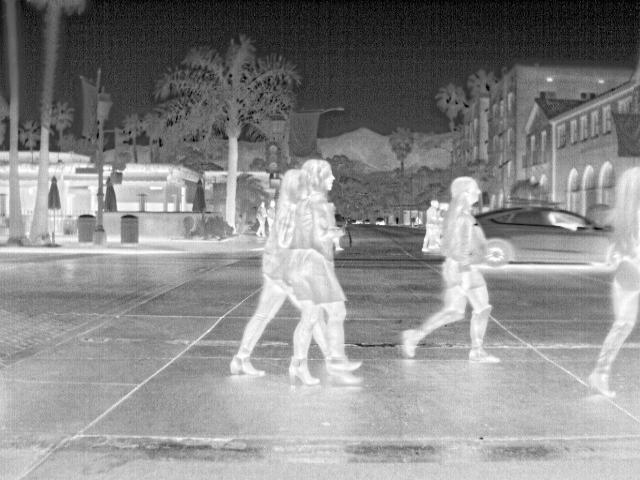car: (472, 205, 613, 267)
person: (397, 174, 501, 363), (288, 158, 364, 388), (227, 166, 303, 379), (588, 165, 640, 399), (422, 201, 443, 252), (256, 200, 268, 235), (265, 196, 278, 227)
